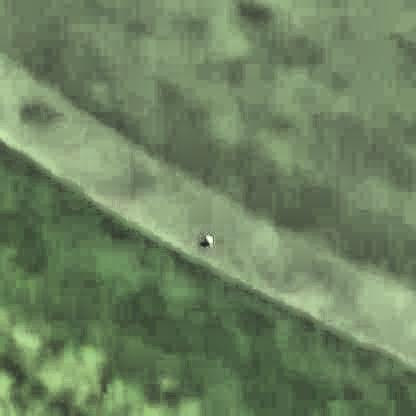golfball: (201, 235, 212, 245)
